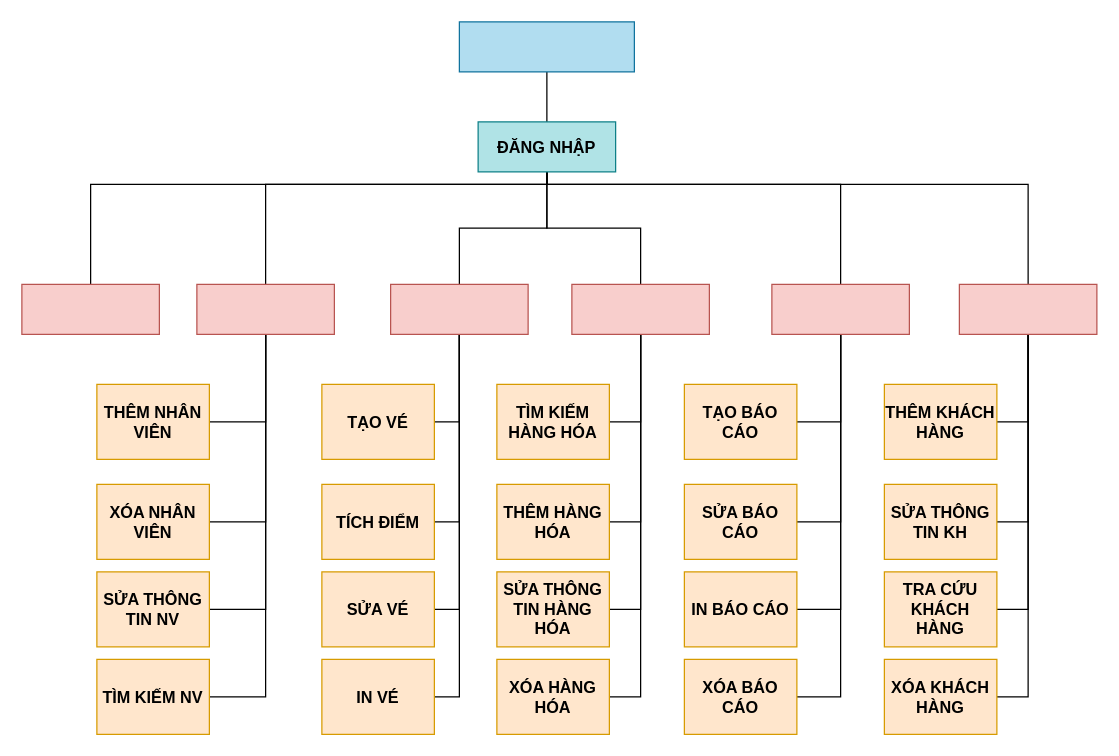
The diagram is 1119 pixels wide and 756 high, and some of its shapes have lost their labels. Each missing label, with the box of its shape:
BÁO CÁO THỐNG KÊ: (771, 283, 909, 334)
QUẢN LÝ BÁN VÉ: (389, 283, 528, 334)
QUẢN LÝ KHO HÀNG: (571, 283, 709, 334)
QUẢN LÝ KHÁCH HÀNG: (958, 283, 1097, 334)
QUẢN LÝ NHÂN VIÊN: (196, 283, 334, 334)
QUẢN LÝ RẠP PHIM: (458, 21, 634, 72)
ĐĂNG XUẤT: (21, 283, 159, 334)
